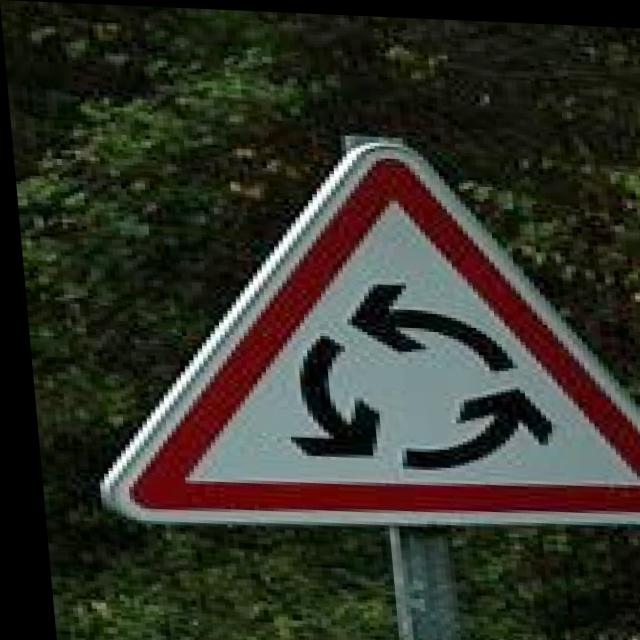ROUNDABOUT: (60, 122, 640, 538)
